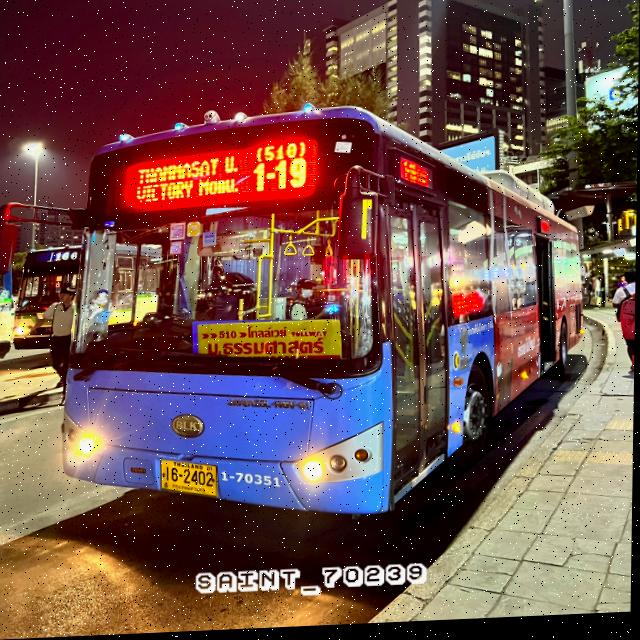BMTA-bus: (55, 85, 595, 540)
Bus-Line-Number: (247, 139, 316, 198)
Destination-Sign-Normal-Expressway: (199, 322, 343, 368)
